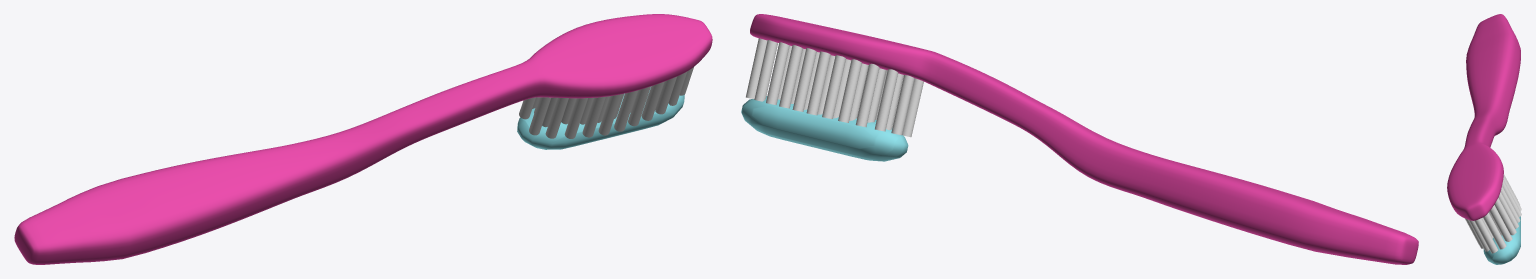
The model's file is sikatgigi.glb.
3 renders of one model, left to right at view 1: azimuth 30°, elevation 25°; view 2: azimuth 150°, elevation 25°; view 3: azimuth 270°, elevation 25°, orthographic. The views are drawn at different scales.
Parts seen in each view (by area): view 1: Cube, Cylinder.002, Mball.001; view 2: Cube, Cylinder.001, Mball.001, Cylinder.002; view 3: Cube, Cylinder.001, Mball.001, Cylinder.002.
Boxes of the visible parts, x1,y1,x2,y2 form: Cube: [14, 14, 712, 264]; Cylinder.002: [529, 67, 693, 138]; Mball.001: [517, 87, 684, 149]; Cube: [750, 14, 1418, 264]; Cylinder.001: [746, 38, 914, 135]; Mball.001: [741, 96, 908, 161]; Cylinder.002: [875, 70, 923, 137]; Cube: [1447, 14, 1520, 220]; Cylinder.001: [1483, 174, 1521, 249]; Mball.001: [1483, 216, 1520, 264]; Cylinder.002: [1465, 217, 1497, 253].
Size of the model in its own units: 5.97 by 0.9768 by 0.8301.
